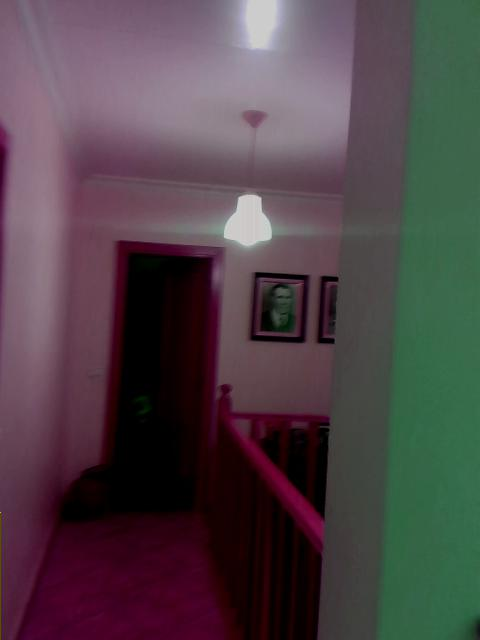semi_door: (103, 237, 226, 513)
